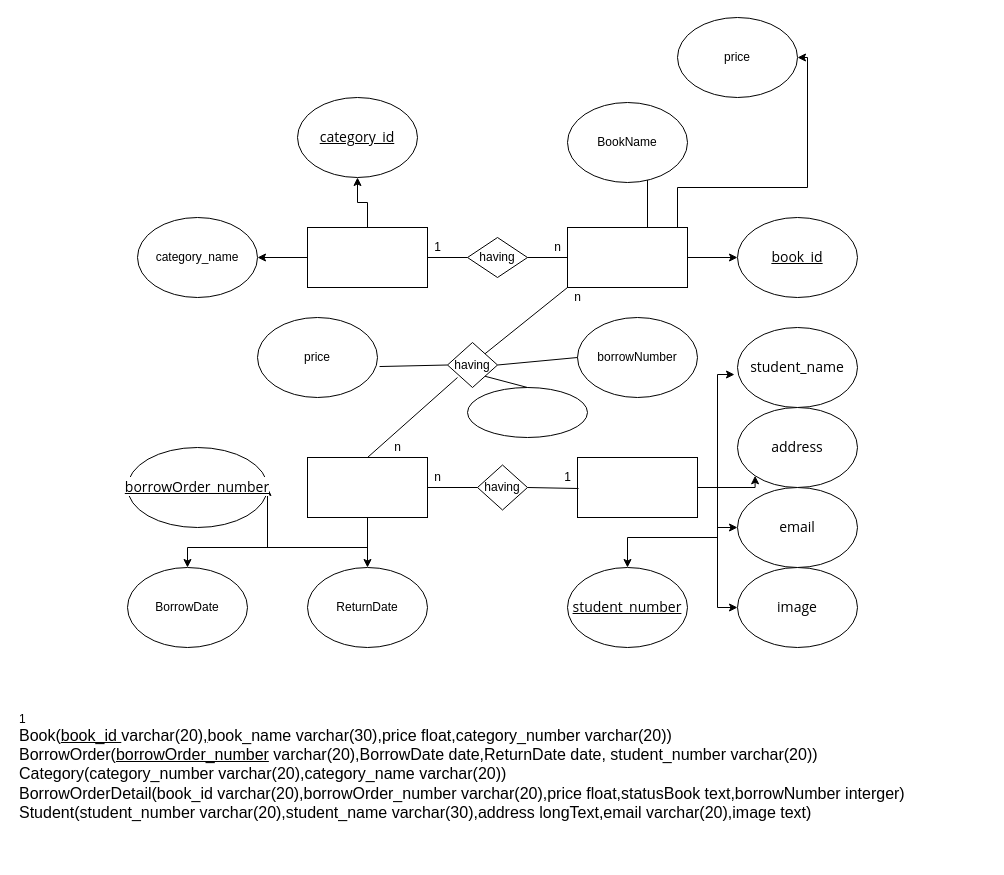
Image size: 1004x875. Some labels were removed from this diagram. The shapes that lost their labels are listed below. From the top down, each one's box as (x1, y1, x2, y2) in pixels, then its label:
(306, 226, 428, 288): Category
(566, 226, 688, 288): Book
(466, 386, 588, 438): statusBook
(306, 456, 428, 518): BorrowOrder
(576, 456, 698, 518): Student
